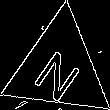N_NE: (30, 36, 88, 101)
